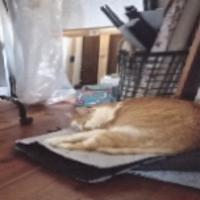asleep: (45, 93, 200, 155)
